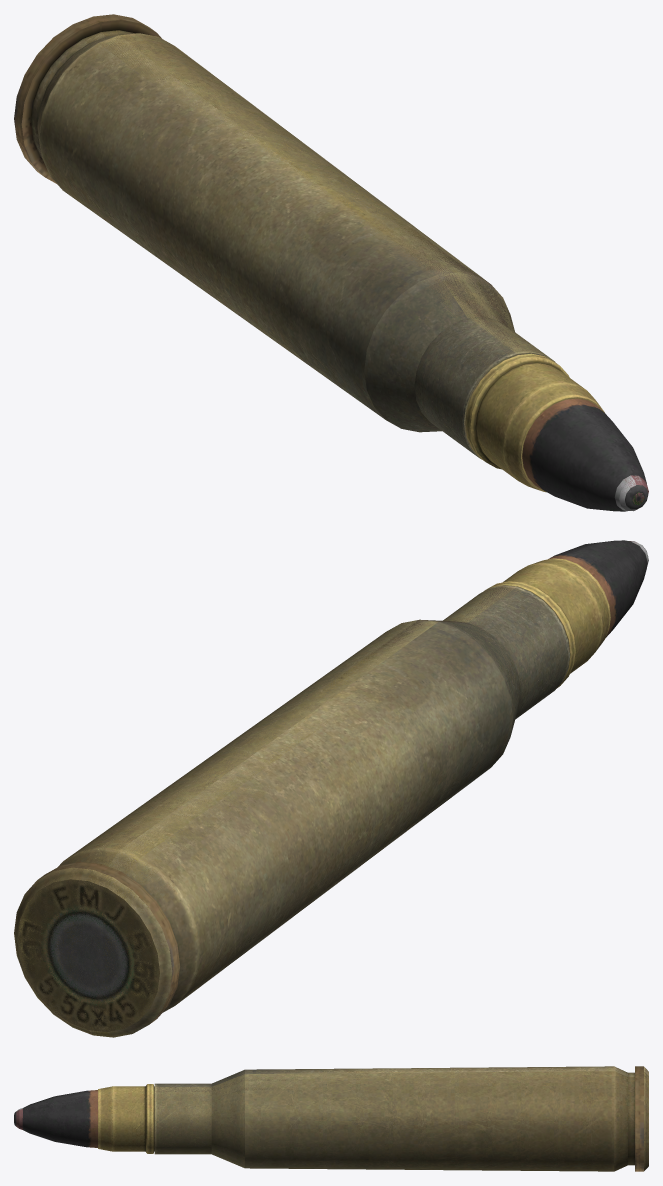
The model's file is 5.56x45_bullet.fbx.
3 views of the same model, one above another, from view 1: azimuth 30°, elevation 25°; view 2: azimuth 150°, elevation 25°; view 3: azimuth 270°, elevation 25° (orthographic). The views are drawn at different scales.
Parts seen in each view (by area): view 1: patron_556x45_mk_255_mod_0_full, patron_556x45_mk_255_mod_0_shell, patron_556x45_55_fmj_full, patron_556x45_m855_full, patron_556x45_m995_full, patron_556x45_ssa_ap_full, patron_556x45_varmageddon_shell, patron_556x45_varmageddon_fulll; view 2: patron_556x45_mk_255_mod_0_full, patron_556x45_55_fmj_full, patron_556x45_mk_255_mod_0_shell, patron_556x45_m855_full, patron_556x45_55_fmj_shell, patron_556x45_ssa_ap_full, patron_556x45_m995_full, patron_556x45_m855_shell, patron_556x45_varmageddon_fulll; view 3: patron_556x45_55_fmj_full, patron_556x45_55_fmj_shell, patron_556x45_ssa_ap_full, patron_556x45_m995_full, patron_556x45_mk_255_mod_0_full, patron_556x45_varmageddon_shell, patron_556x45_m855_full, patron_556x45_varmageddon_fulll.
Boxes of the visible parts, box(x1,y1,x2,y2) form: patron_556x45_mk_255_mod_0_full: box(31, 32, 642, 511); patron_556x45_mk_255_mod_0_shell: box(31, 122, 478, 457); patron_556x45_55_fmj_full: box(70, 30, 648, 510); patron_556x45_m855_full: box(68, 30, 643, 505); patron_556x45_m995_full: box(522, 398, 648, 511); patron_556x45_ssa_ap_full: box(465, 353, 640, 501); patron_556x45_varmageddon_shell: box(20, 15, 161, 183); patron_556x45_varmageddon_fulll: box(14, 14, 147, 175); patron_556x45_mk_255_mod_0_full: box(19, 541, 648, 1031); patron_556x45_55_fmj_full: box(14, 541, 636, 1031); patron_556x45_mk_255_mod_0_shell: box(19, 655, 569, 1037); patron_556x45_m855_full: box(16, 585, 517, 1031); patron_556x45_55_fmj_shell: box(14, 880, 168, 1035); patron_556x45_ssa_ap_full: box(484, 558, 610, 688); patron_556x45_m995_full: box(548, 540, 648, 637); patron_556x45_m855_shell: box(16, 880, 170, 1037); patron_556x45_varmageddon_fulll: box(23, 864, 178, 1024); patron_556x45_55_fmj_full: box(16, 1071, 648, 1141); patron_556x45_55_fmj_shell: box(154, 1134, 648, 1171); patron_556x45_ssa_ap_full: box(98, 1084, 154, 1153); patron_556x45_m995_full: box(14, 1090, 97, 1147); patron_556x45_mk_255_mod_0_full: box(16, 1066, 648, 1111); patron_556x45_varmageddon_shell: box(635, 1066, 642, 1171); patron_556x45_m855_full: box(155, 1073, 648, 1130); patron_556x45_varmageddon_fulll: box(636, 1066, 643, 1171).
Size of the model in its own units: 1.25 by 1.25 by 7.51.
